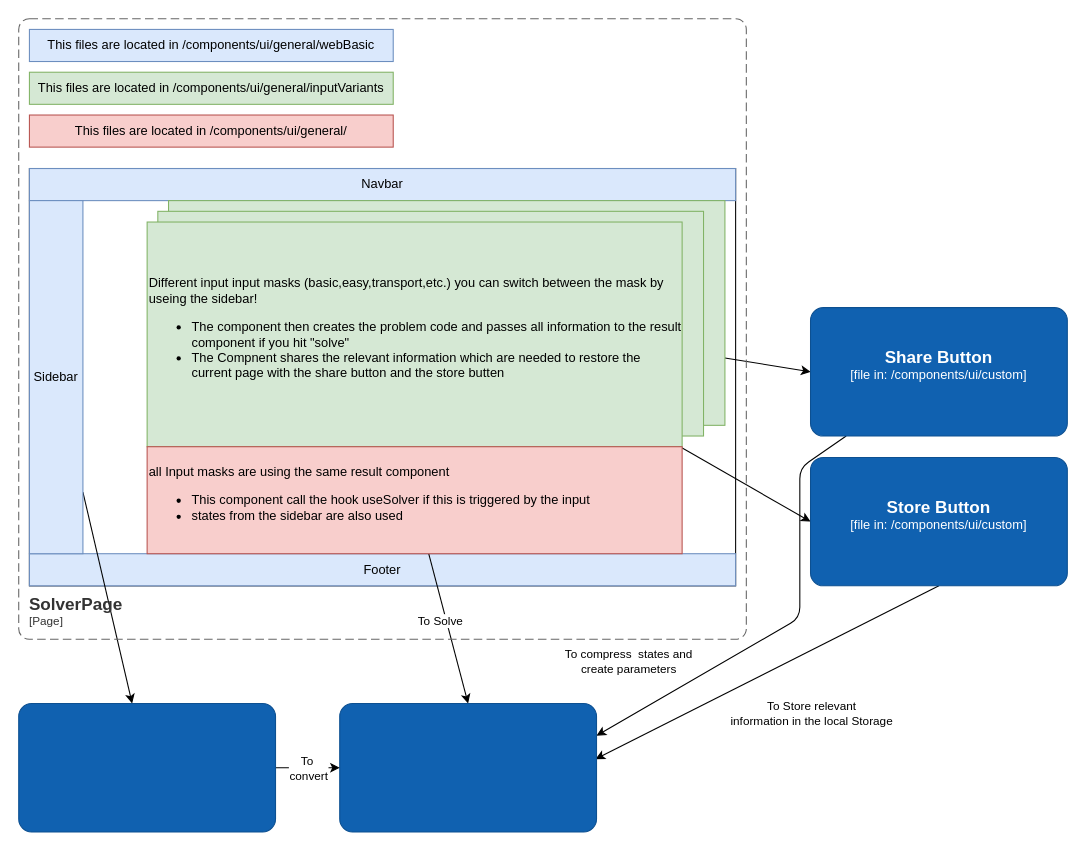
This 1086x851 diagram has some shape labels left out. Here are the shapes that lost their labels. From the top down, the centre of each, then its label:
At (x=147, y=767): "exportButton [file in: /components/ui/custom]".
At (x=468, y=767): "Backend [Backend in Architecture.svg]".
